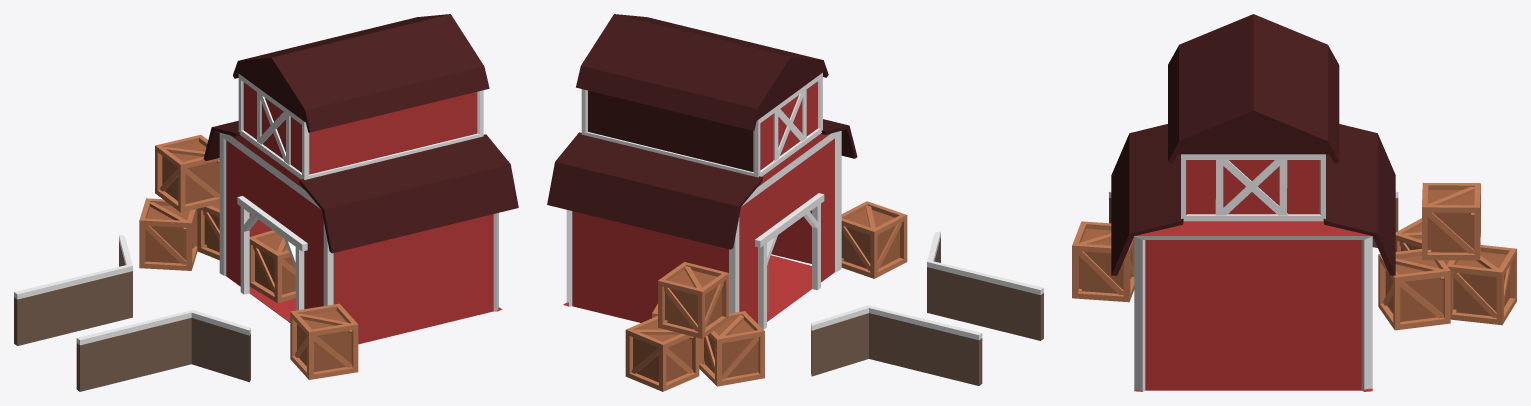
Rendered from finish.fbx.
The picture shows the model from 3 angles, left to right: view 1: azimuth 30°, elevation 25°; view 2: azimuth 150°, elevation 25°; view 3: azimuth 270°, elevation 25°; orthographic projection. The views are drawn at different scales.
Parts seen in each view (by area): view 1: Cube, Plane, Cube.002, Cube.006, Cube.005, Cube.011, Cube.003, Cube.004; view 2: Cube, Plane, Cube.006, Cube.002, Cube.007, Cube.005, Cube.004; view 3: Cube, Cube.003, Cube.007, Cube.006, Cube.002, Cube.001, Cube.005.
Boxes of the visible parts, bbox=[...] form: Cube: bbox=[203, 14, 518, 344]; Plane: bbox=[14, 234, 250, 391]; Cube.002: bbox=[290, 303, 358, 379]; Cube.006: bbox=[155, 134, 219, 212]; Cube.005: bbox=[139, 198, 197, 270]; Cube.011: bbox=[249, 230, 295, 303]; Cube.003: bbox=[197, 203, 219, 260]; Cube.004: bbox=[257, 92, 290, 164]; Cube: bbox=[547, 14, 857, 329]; Plane: bbox=[811, 231, 1043, 385]; Cube.006: bbox=[658, 262, 728, 338]; Cube.002: bbox=[841, 201, 907, 278]; Cube.007: bbox=[625, 316, 699, 391]; Cube.005: bbox=[699, 311, 764, 386]; Cube.004: bbox=[773, 89, 806, 161]; Cube: bbox=[1111, 14, 1395, 391]; Cube.003: bbox=[1378, 249, 1450, 330]; Cube.007: bbox=[1446, 245, 1516, 325]; Cube.006: bbox=[1422, 182, 1480, 260]; Cube.002: bbox=[1072, 221, 1134, 302]; Cube.001: bbox=[1215, 160, 1288, 215]; Cube.005: bbox=[1395, 218, 1449, 264].
Bounding box in the file's own units: 357 × 215 × 306.
